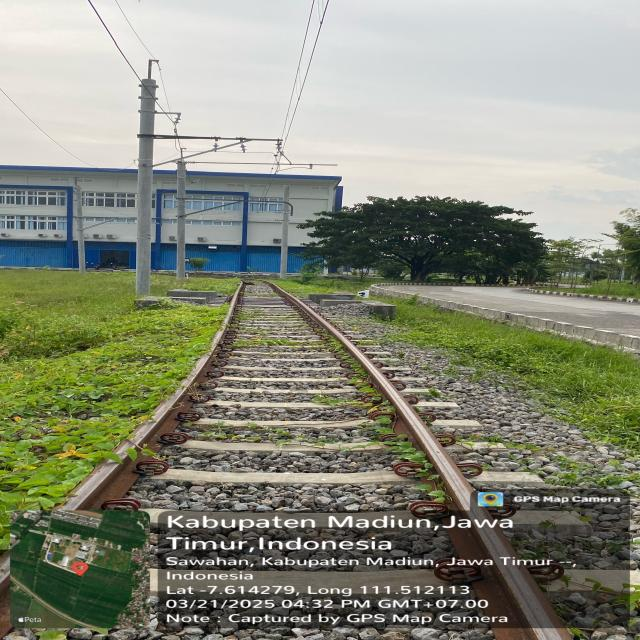rail-detection: (263, 281, 570, 640), (60, 282, 245, 517), (190, 471, 376, 484)
